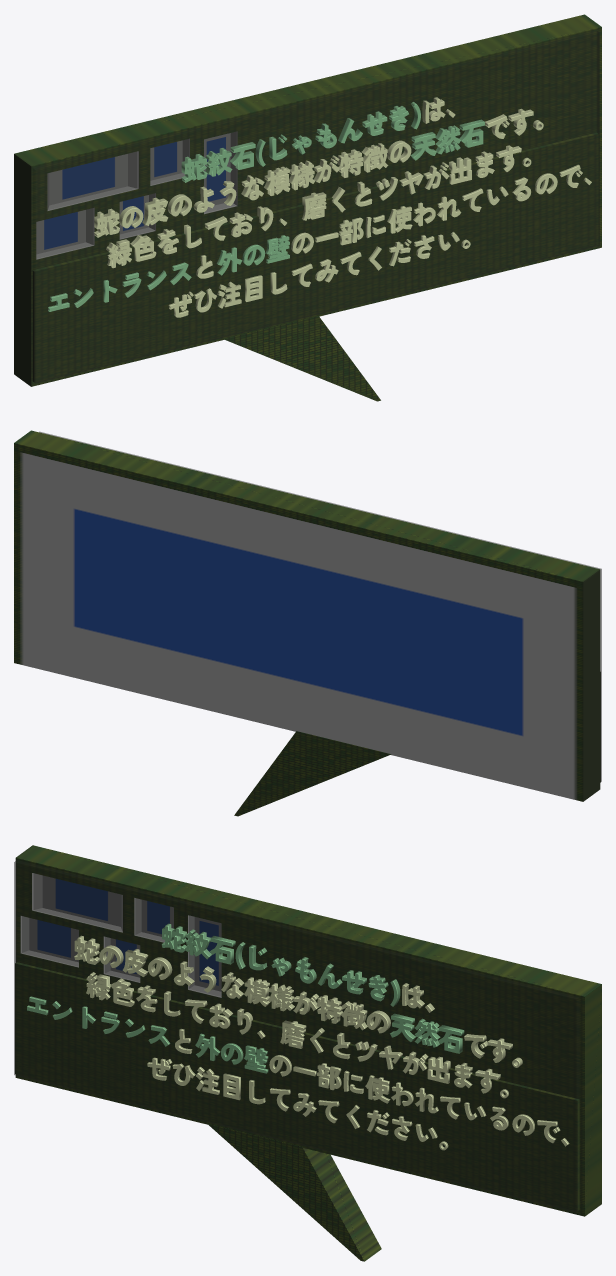
File: cfukidasi-jamon.glb
3 renders of one model, top to bottom at view 1: azimuth 30°, elevation 25°; view 2: azimuth 150°, elevation 25°; view 3: azimuth 330°, elevation 25°, orthographic.
Visible parts, largest first — view 1: 立方体.003, 立方体, 立方体.002, テキスト, 立方体.001; view 2: 立方体, 立方体.001, 立方体.003; view 3: 立方体.003, 立方体, 立方体.002, テキスト, 立方体.001.
Boxes of the visible parts, x1,y1,x2,y2 form: 立方体.003: (33,30,599,383); 立方体: (14,14,601,386); 立方体.002: (32,132,598,382); テキスト: (48,97,591,317); 立方体.001: (223,316,380,401); 立方体: (14,430,600,801); 立方体.001: (234,731,391,816); 立方体.003: (39,431,601,781); 立方体.003: (14,860,579,1212); 立方体: (15,845,601,1216); 立方体.002: (15,962,579,1211); テキスト: (27,923,569,1150); 立方体.001: (207,1123,381,1261).
Size of the model in its own units: 11.96 by 6.4 by 0.7575.
Materials: 6 (3 with a texture image).
